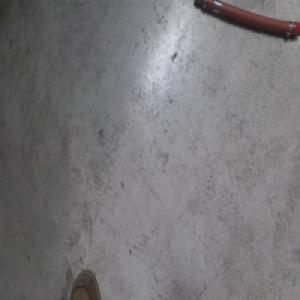Hose: (193, 0, 300, 39)
